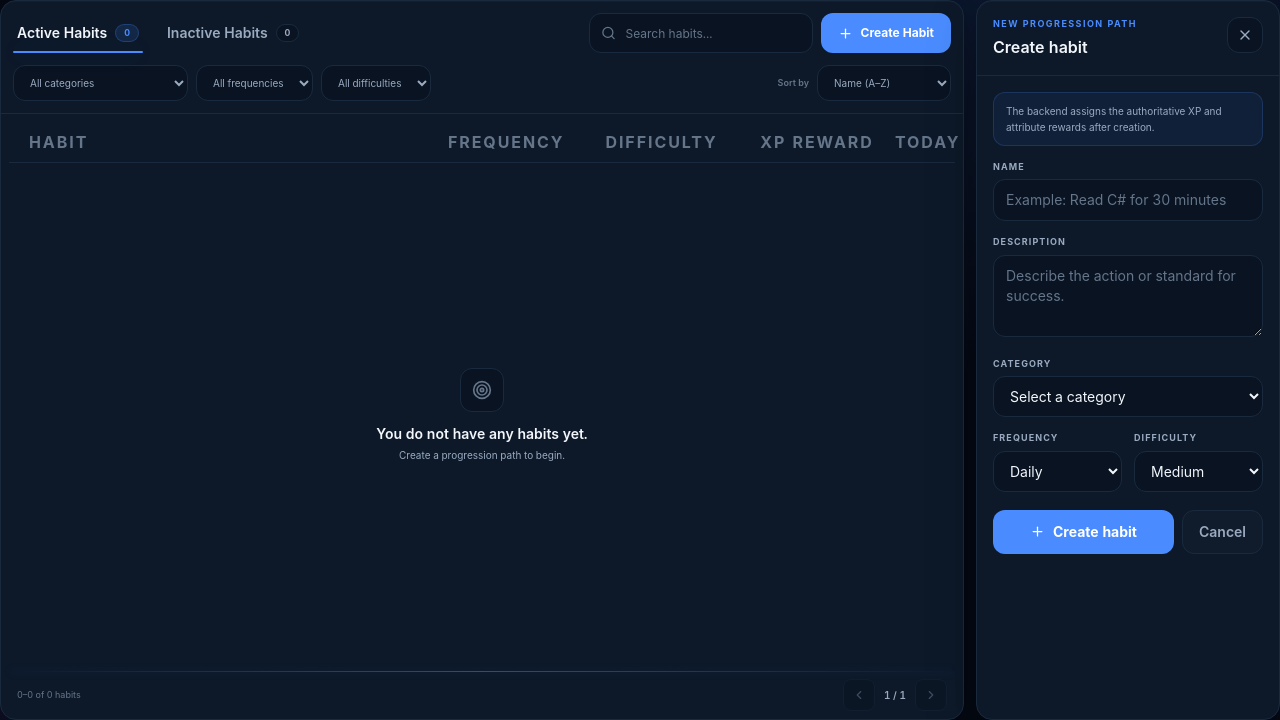
HabitSection › adds a created habit without reloading the habit list
Expected: the text "You do not have any habits yet." is shown, [376, 424, 588, 444]
Click the button "Create Habit" at coordinates (886, 33), box [820, 13, 951, 53]
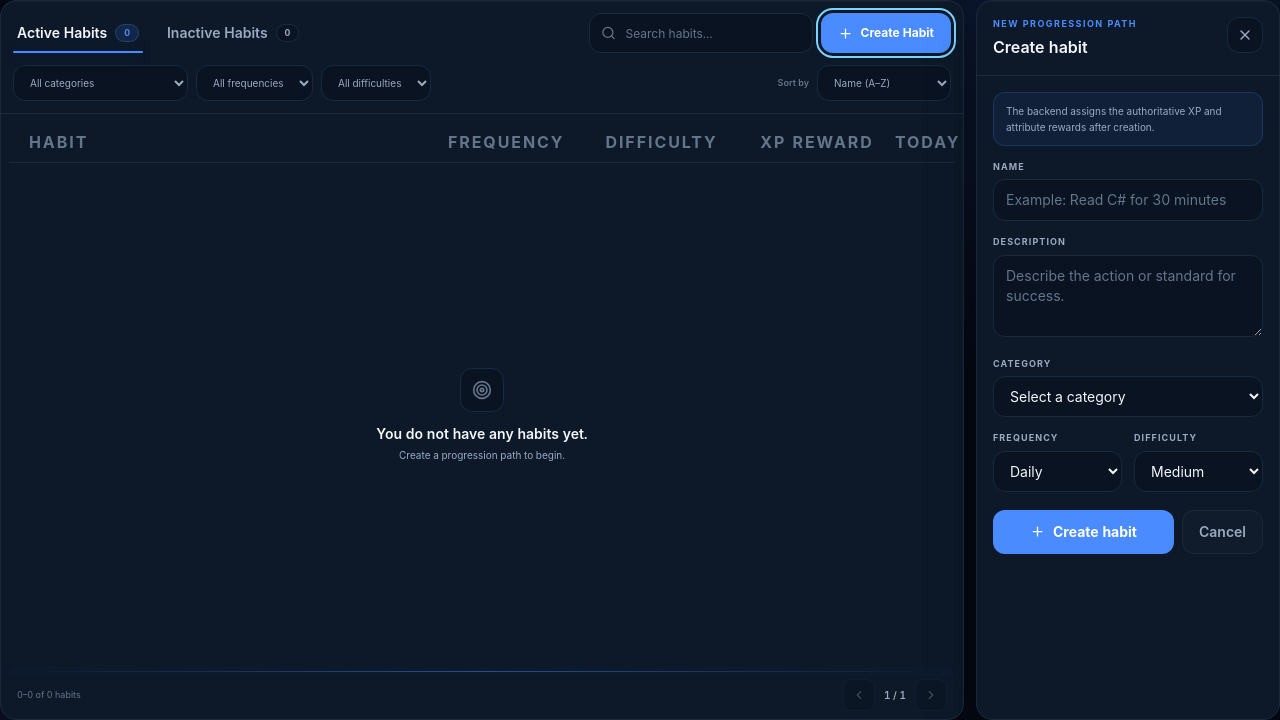
Expected: the form named "Create habit" is shown, [993, 92, 1263, 554]
Type "Read C# textbook" into the field labelled "Name" at coordinates (1128, 200), box [993, 179, 1263, 221]
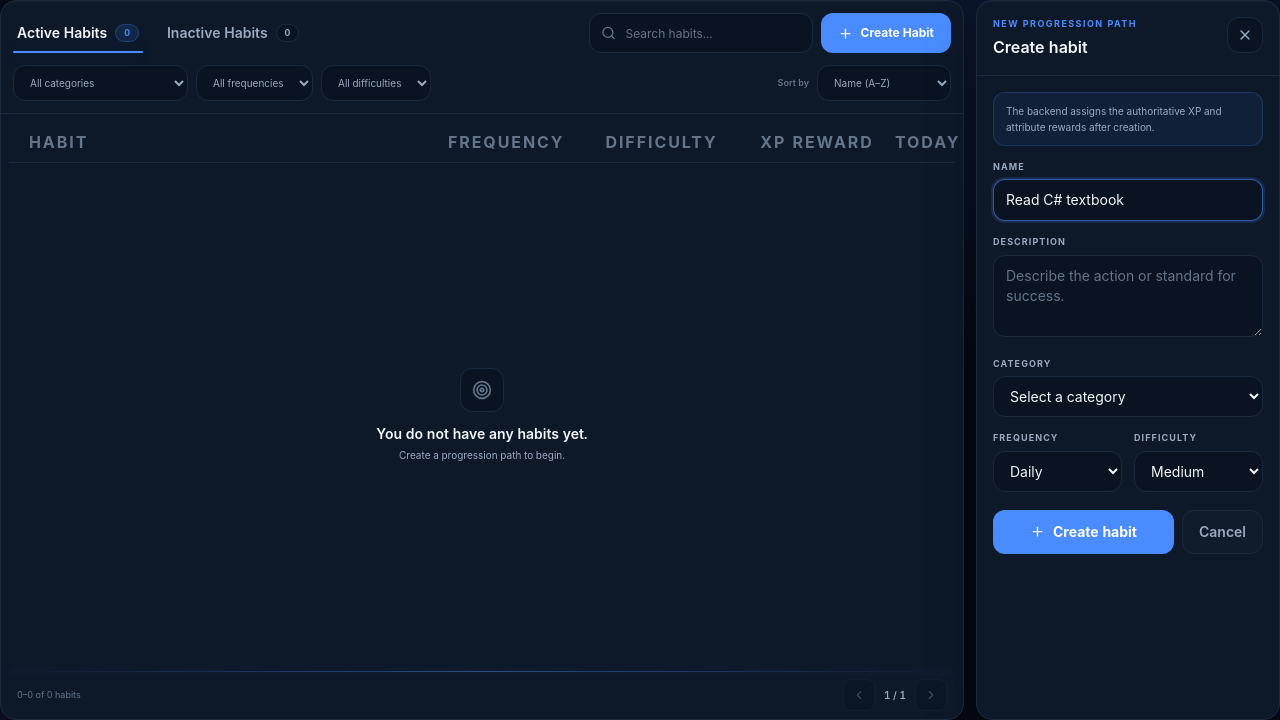
Select "Learning & Skills" in the dropdown labelled "Category" at coordinates (1128, 396), box [993, 376, 1263, 417]
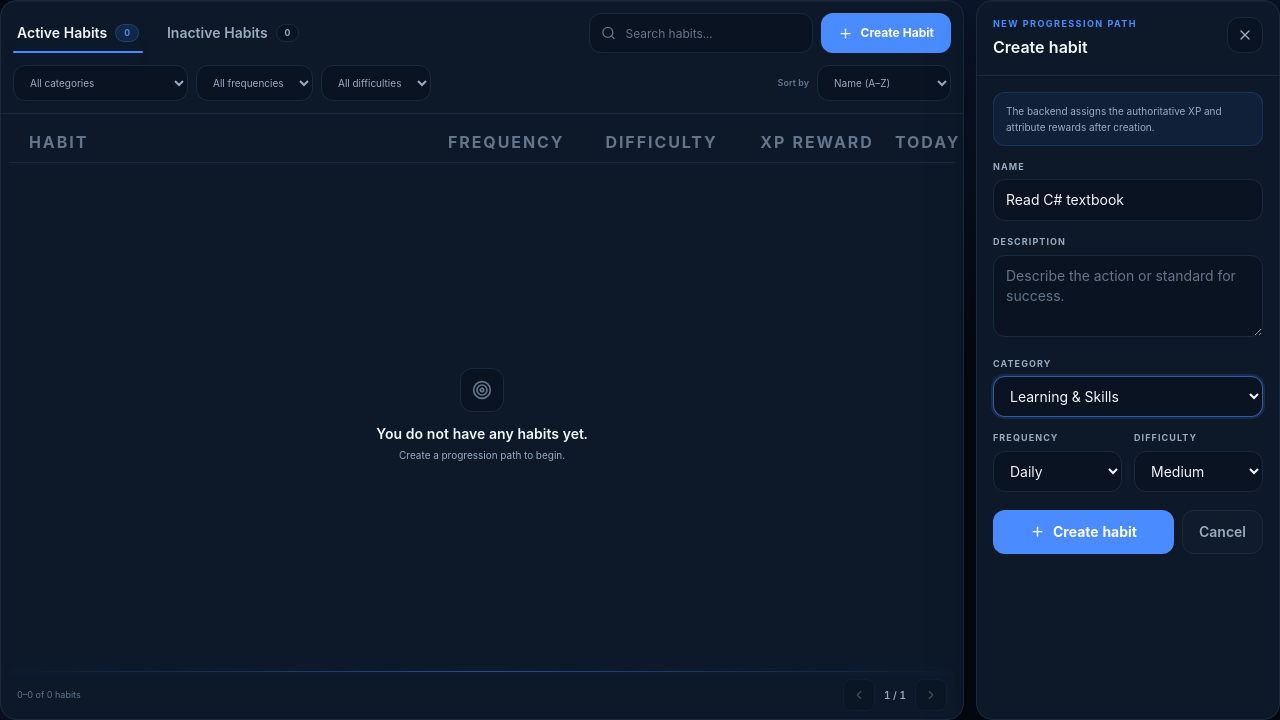
Click the button "Create habit" at coordinates (1084, 532), box [993, 510, 1174, 554]
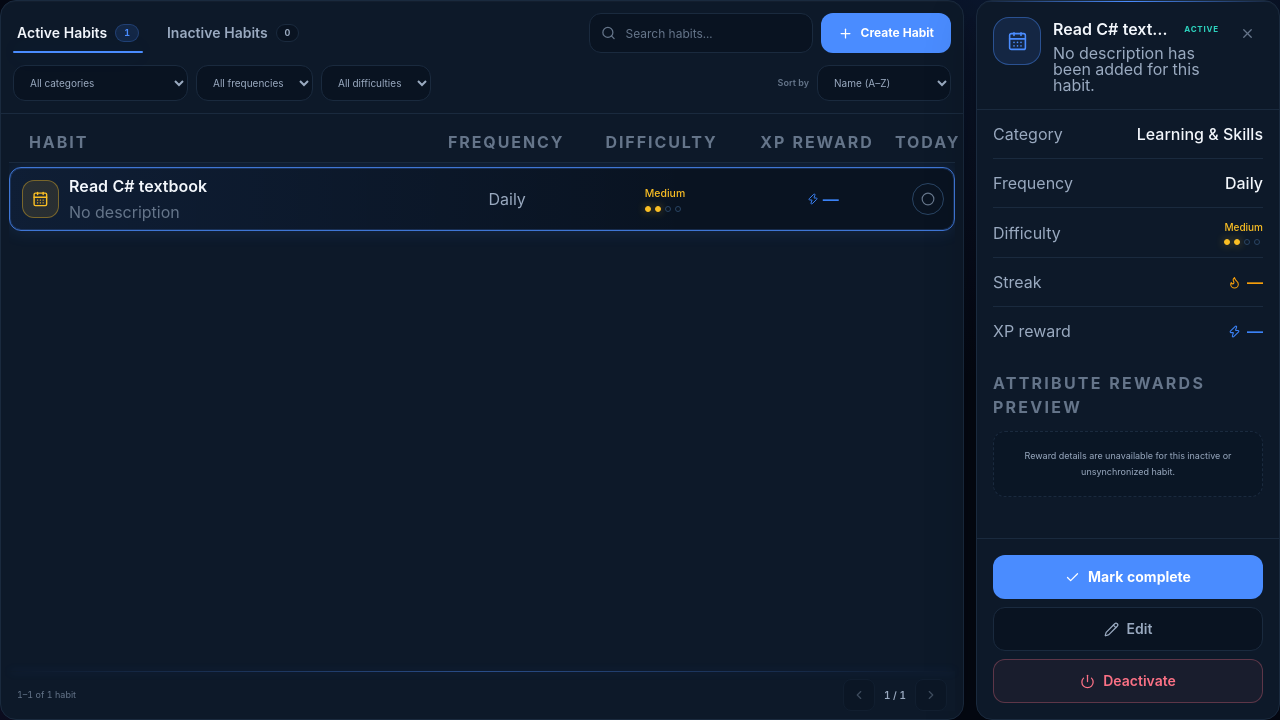
Expected: the 2nd heading "Read C# textbook" is shown, [69, 174, 207, 198]
Expected: the 1st heading "Read C# textbook" is shown, [1053, 17, 1176, 41]
